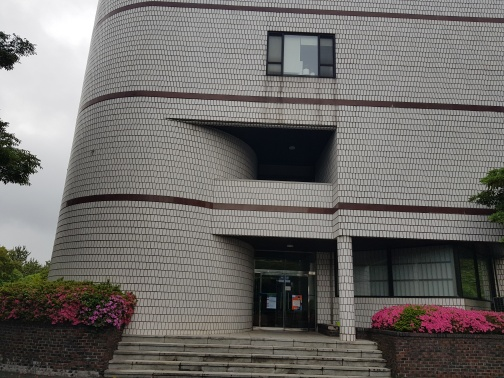Foreign Language Institute: (62, 8, 504, 359), (165, 188, 416, 363)
